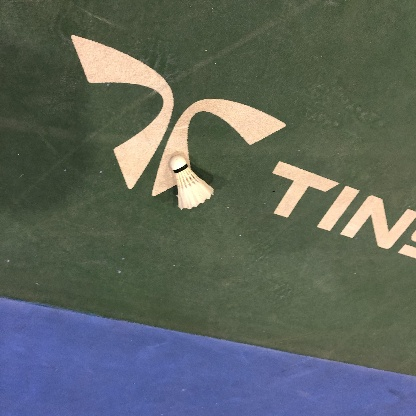ball_single: (170, 155, 215, 210)
